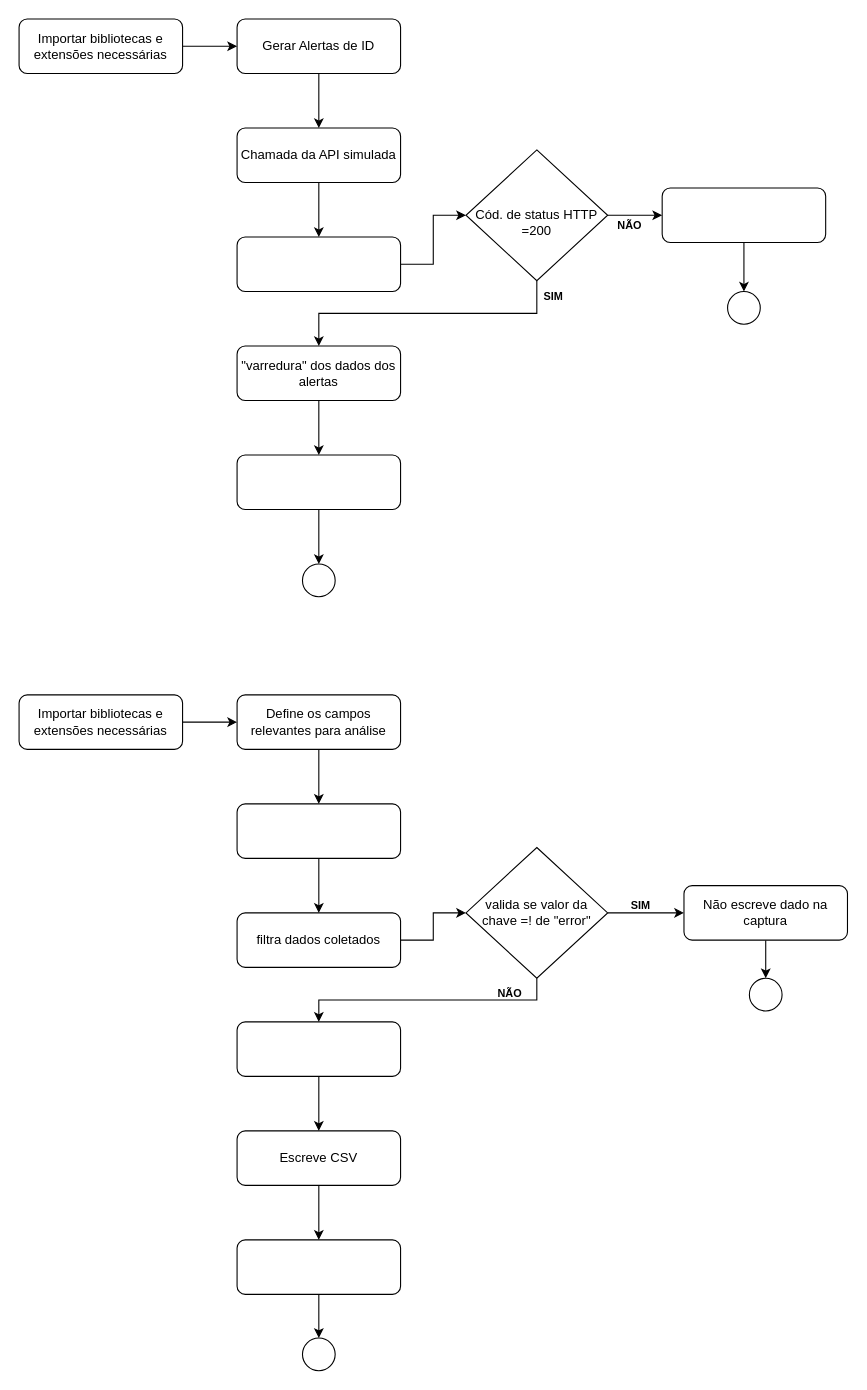
Image size: 867x1390. Some labels were removed from this diagram. The centre of each missing label's shape, as x and y in pixels:
Captura dados válidos: point 318,1048
capturar alertas detalhadamente: point 318,264
Retorna a mensagem de erro.: point 743,215
retorna dados: point 318,482
salva dados em arquivo .csv: point 318,1266
Simula dados coletados: point 318,830
